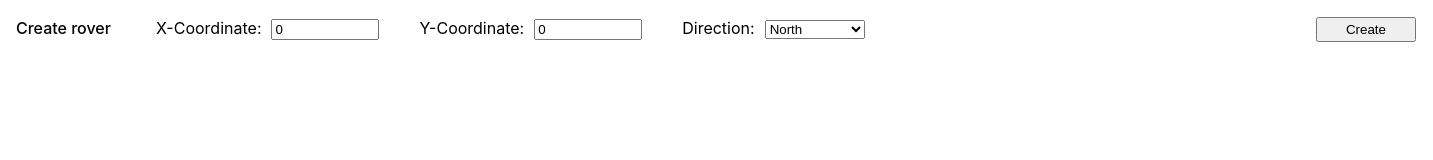
Test: CreateControl Component › should disable create button if x coordinate input is empty
Clear the number field named "x-input": (326, 30) [272,19,380,40]
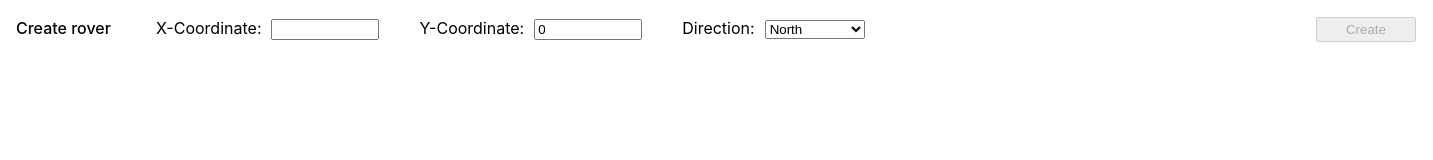
Check: the button "Create" is disabled, box [1316,16,1416,42]
